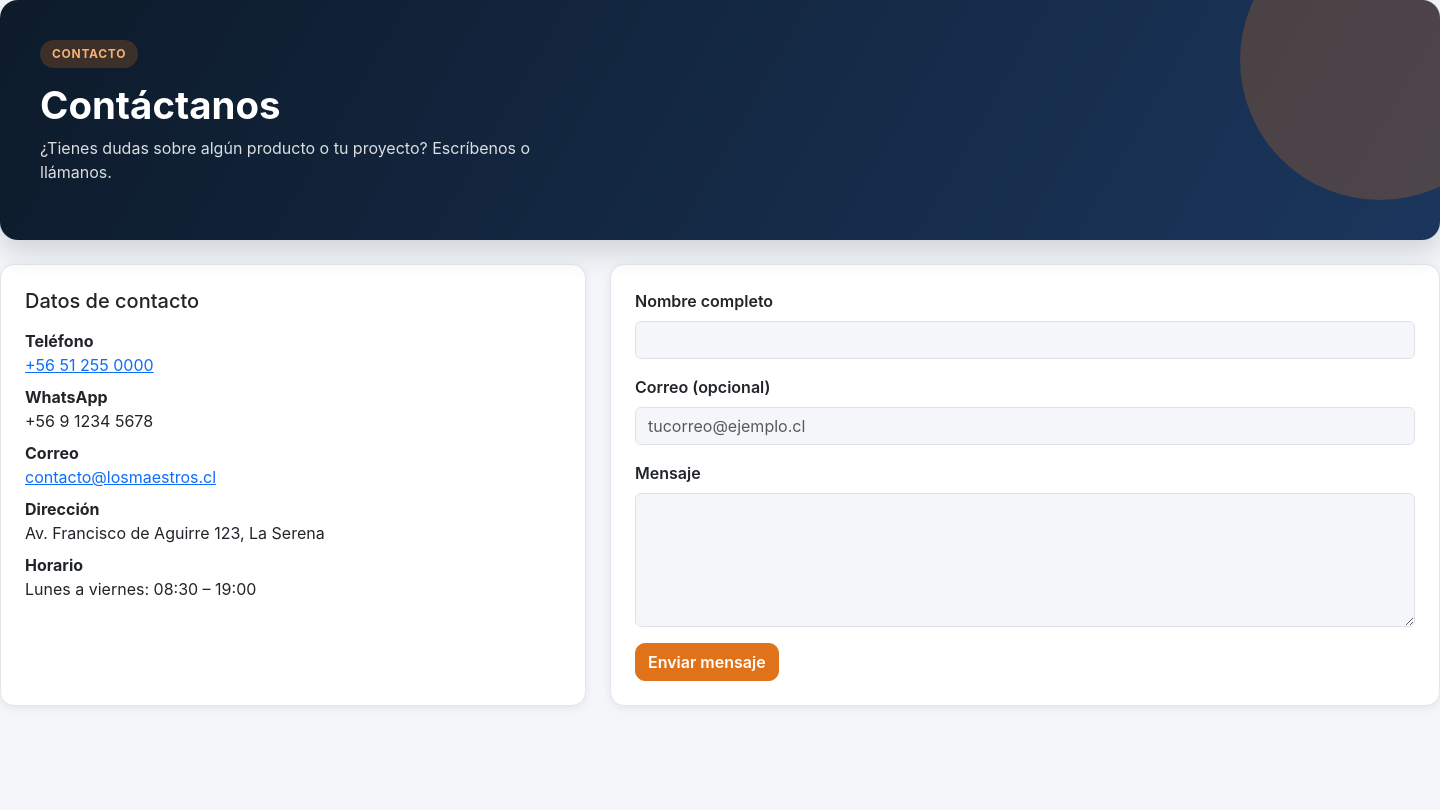
it: el formulario de contacto avisa que el nombre es obligatorio
// Simulamos que el usuario presiona Enviar sin escribir nada
What coordinates should you click on to do the following:
click the button "Enviar mensaje"
I would click on:
 (707, 662)
Its box is [635,644,779,682].
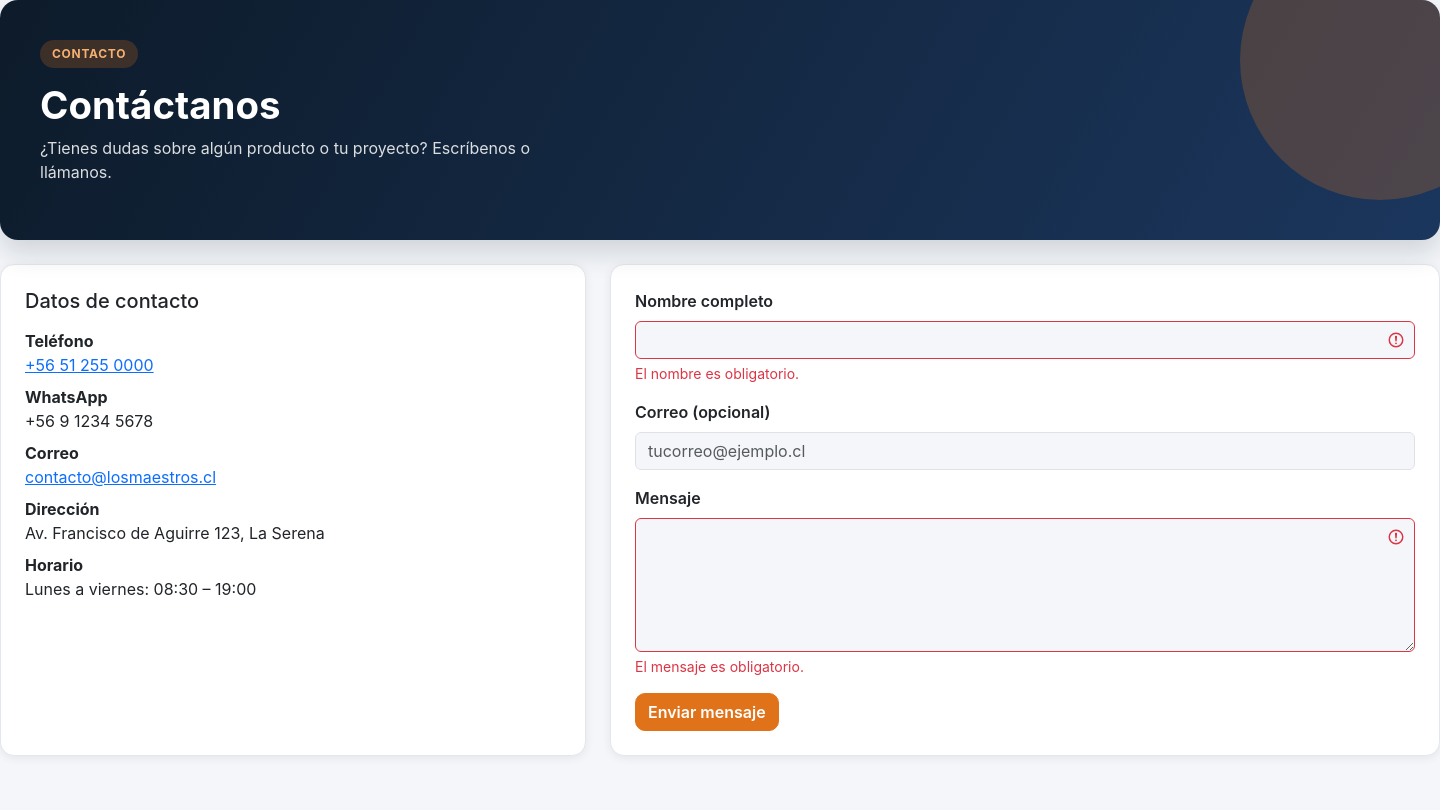
Now the text "El nombre es obligatorio." is shown, box [635,366,799,382]
